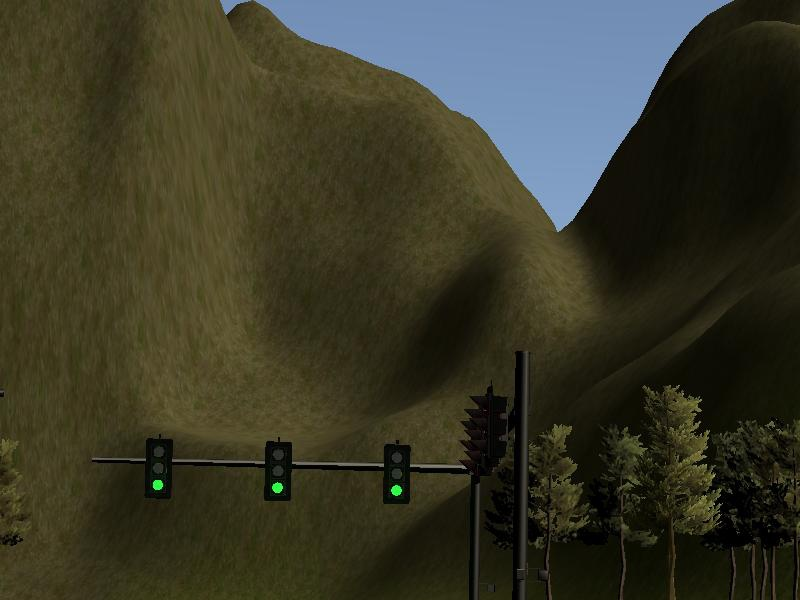green_light: (265, 443, 292, 502), (385, 445, 410, 504), (147, 438, 171, 498)
